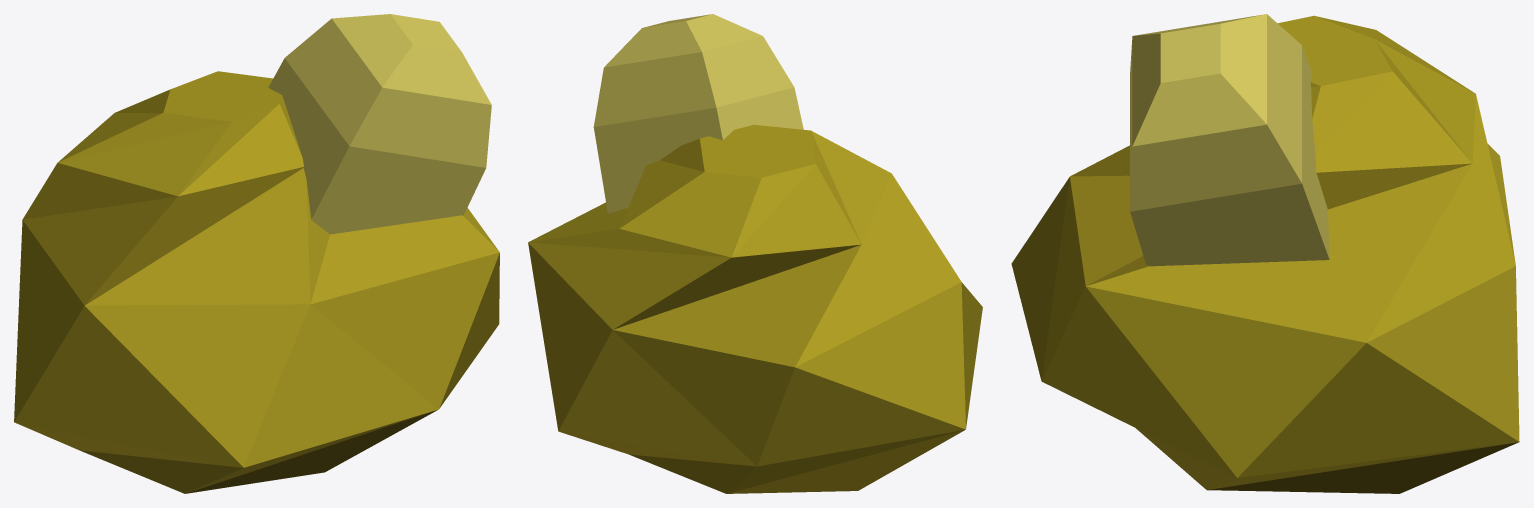
Rendered from sulfur.gltf.
3 renders of one model, left to right at view 1: azimuth 30°, elevation 25°; view 2: azimuth 150°, elevation 25°; view 3: azimuth 270°, elevation 25°, orthographic. The views are drawn at different scales.
Parts seen in each view (by area): view 1: sulfur; view 2: sulfur; view 3: sulfur.
Boxes of the visible parts, left/top/right/bottom form: sulfur: left=14, top=14, right=499, bottom=493; sulfur: left=528, top=14, right=982, bottom=493; sulfur: left=1011, top=14, right=1519, bottom=493.
Bounding box in the file's own units: 0.1818 × 0.16 × 0.1531.
